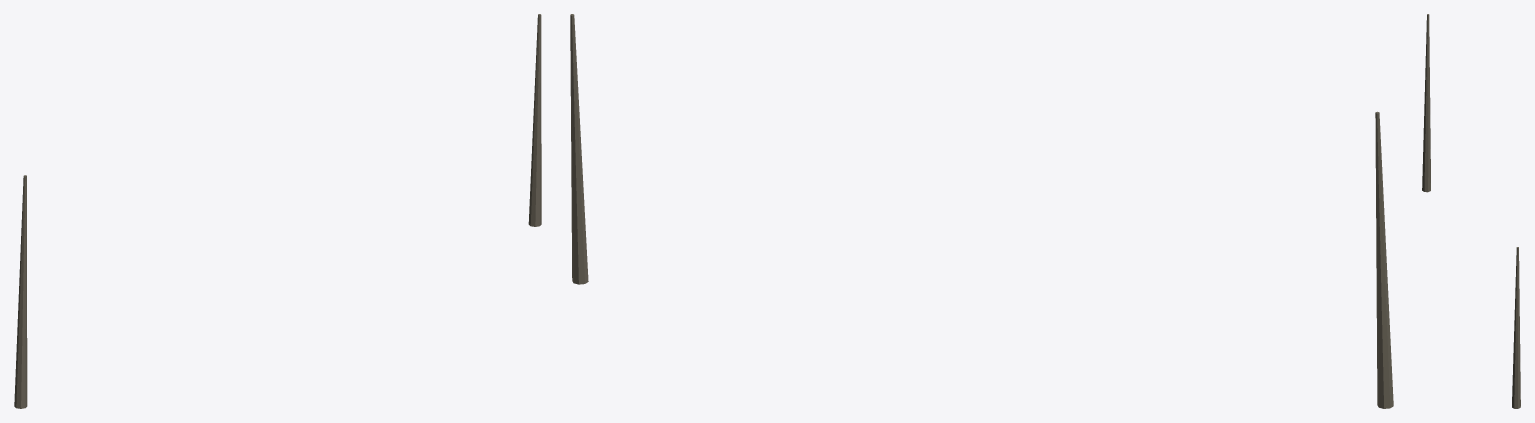
File: xiyuan-vegetation-16-far.glb
3 views of the same model, side by side, from view 1: azimuth 30°, elevation 25°; view 2: azimuth 150°, elevation 25°; view 3: azimuth 270°, elevation 25° (orthographic). The views are drawn at different scales.
Visible parts, largest first — view 1: vegetation broadleaf trunk; view 2: vegetation broadleaf trunk; view 3: vegetation broadleaf trunk.
Boxes of the visible parts, x1,y1,x2,y2 form: vegetation broadleaf trunk: [14, 14, 541, 408]; vegetation broadleaf trunk: [570, 14, 1393, 408]; vegetation broadleaf trunk: [1422, 14, 1520, 408].
Bounding box in the file's own units: 29.41 × 11.01 × 5.55.
